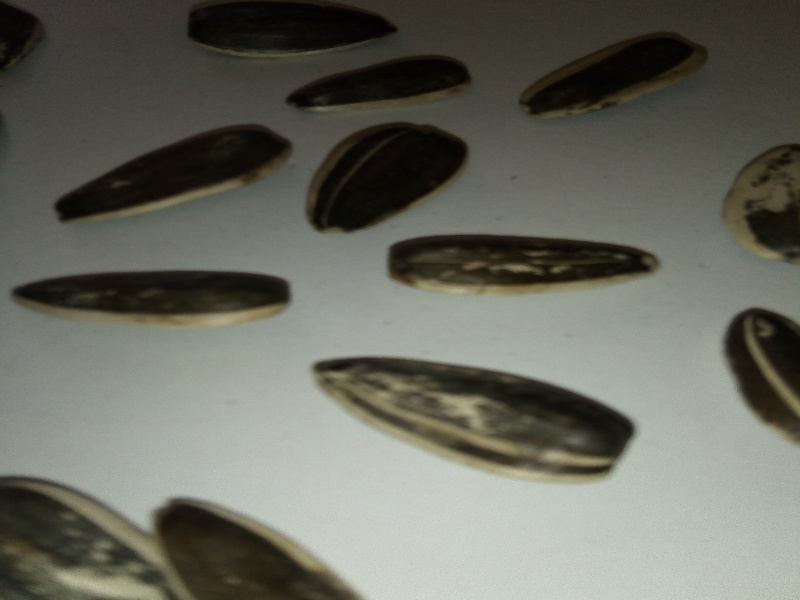w: (301, 347, 648, 500), (43, 117, 297, 236), (7, 253, 307, 340), (376, 226, 672, 297), (303, 119, 477, 232)
